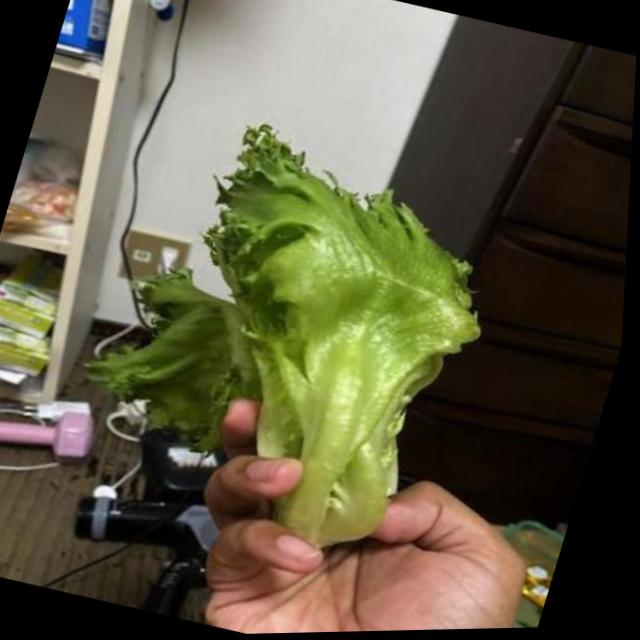Mature: (89, 124, 478, 546)
